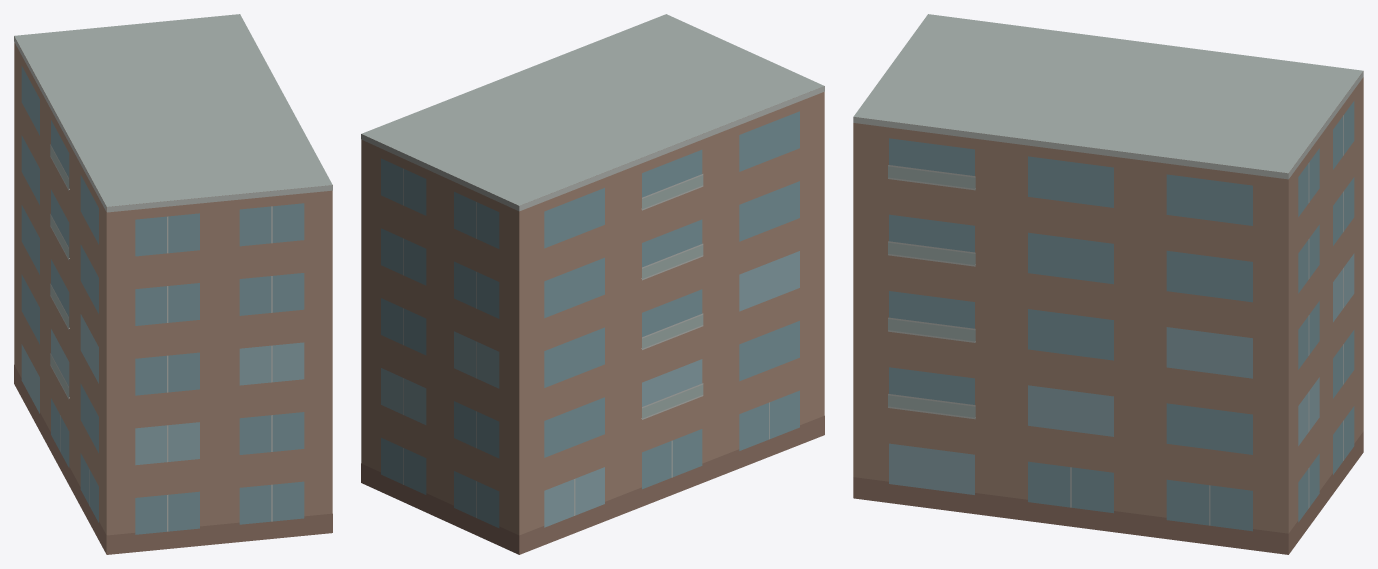
The model's file is residential-c4c1d71c-53ef-4160-9574-ed1e5d8a67c8.glb.
3 views of the same model, side by side, from view 1: azimuth 30°, elevation 25°; view 2: azimuth 150°, elevation 25°; view 3: azimuth 270°, elevation 25° (orthographic). The views are drawn at different scales.
Parts seen in each view (by area): view 1: residential-c4c1d71c-53ef-4160-9574-ed1e5d8a67c8.tmp; view 2: residential-c4c1d71c-53ef-4160-9574-ed1e5d8a67c8.tmp; view 3: residential-c4c1d71c-53ef-4160-9574-ed1e5d8a67c8.tmp.
Part boxes in pixels (x1,y1,x2,y2): residential-c4c1d71c-53ef-4160-9574-ed1e5d8a67c8.tmp: (14, 14, 332, 554); residential-c4c1d71c-53ef-4160-9574-ed1e5d8a67c8.tmp: (361, 14, 824, 554); residential-c4c1d71c-53ef-4160-9574-ed1e5d8a67c8.tmp: (853, 14, 1363, 554).
Size of the model in its own units: 13.66 by 15.25 by 18.49.
